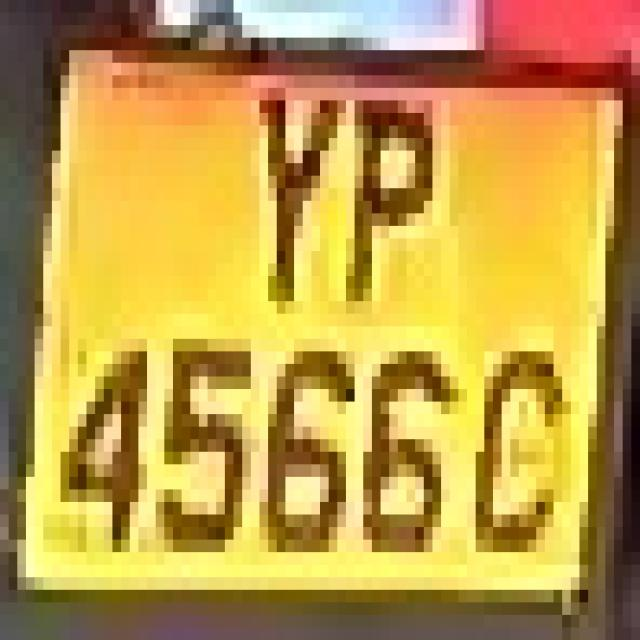4: (43, 314, 156, 564)
5: (147, 276, 242, 577)
6: (251, 301, 363, 565), (346, 314, 450, 577)
C: (458, 264, 580, 628)
P: (328, 38, 432, 301)
Y: (216, 25, 338, 301)
